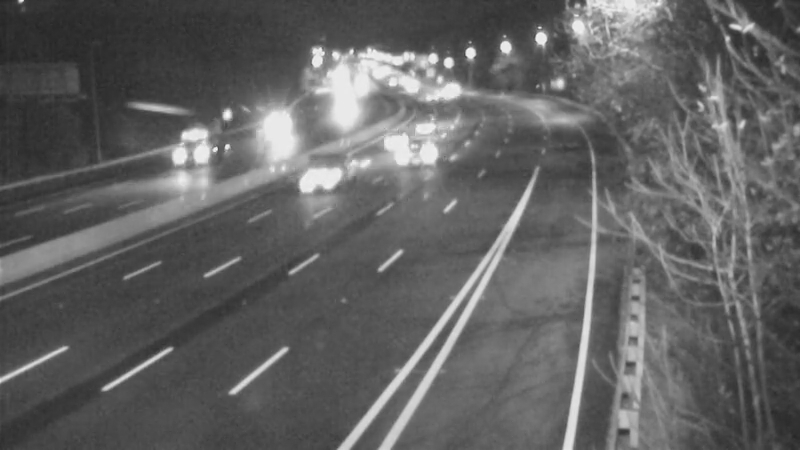vehicle: (376, 111, 456, 191), (273, 139, 353, 219), (145, 115, 225, 195), (401, 96, 451, 146), (371, 114, 421, 164), (255, 100, 305, 150), (319, 81, 369, 131)
